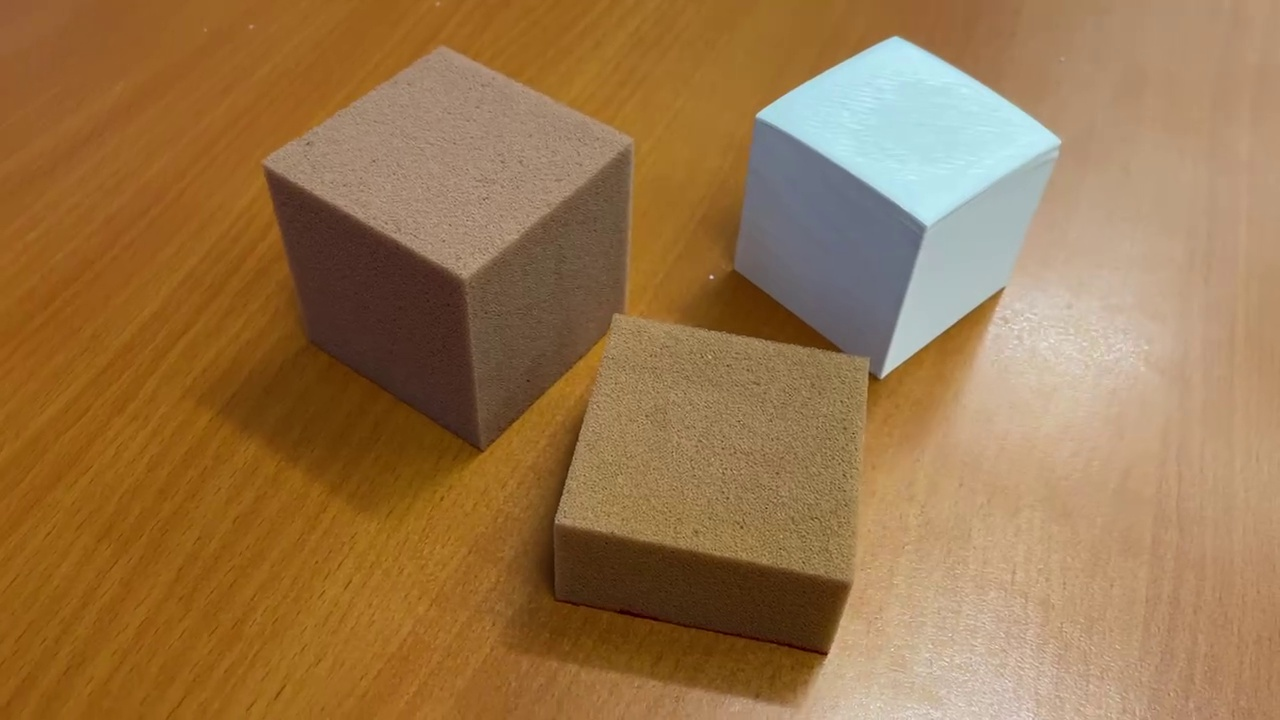Cube: (263, 39, 635, 457), (726, 28, 1069, 390)
Cube_short: (545, 308, 877, 669)
